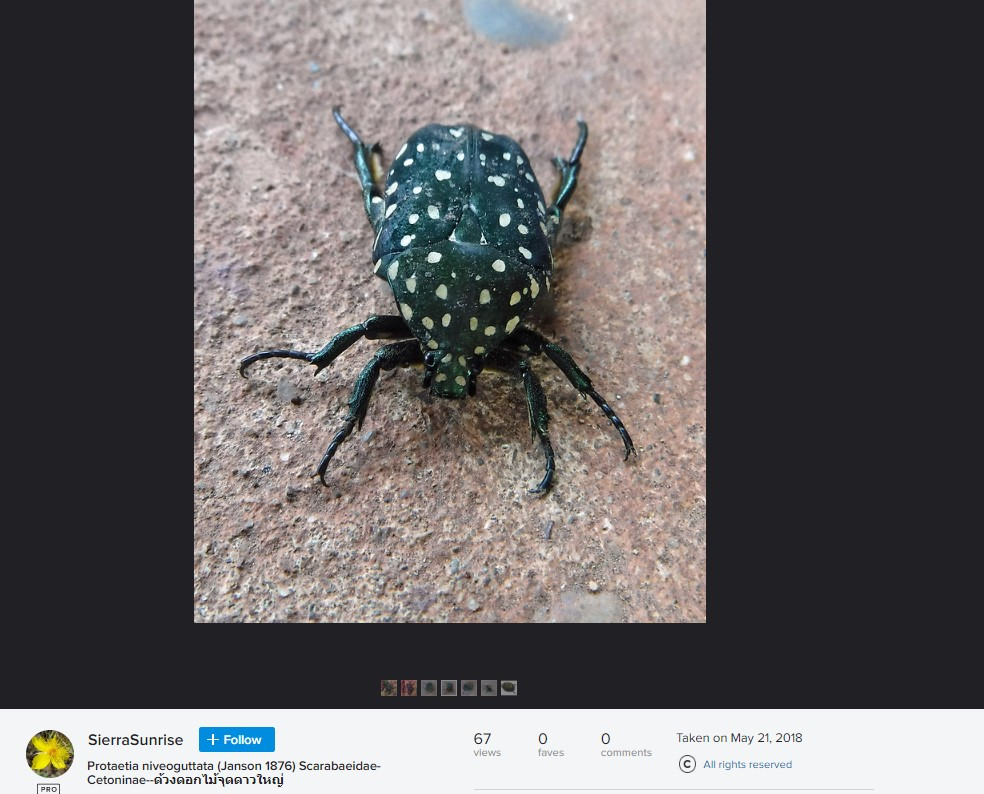Protaetia_niveoguttata: (233, 90, 640, 503)
